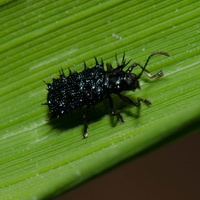insect: (45, 51, 168, 137)
